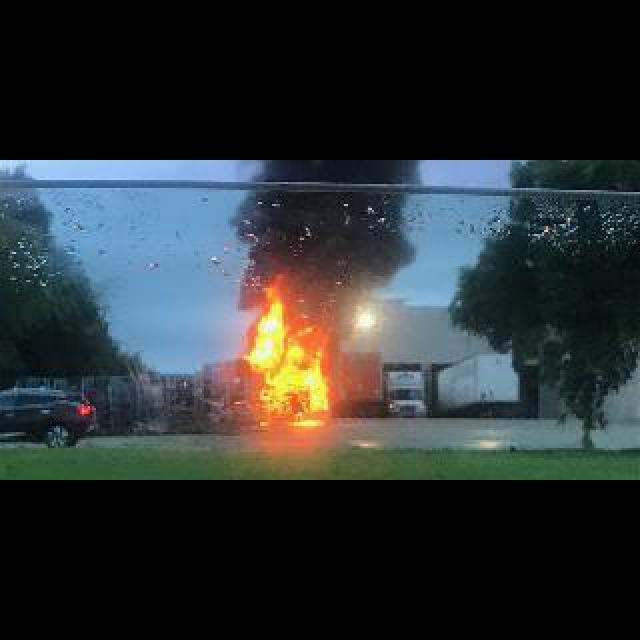fire: (244, 298, 326, 424)
smoke: (220, 160, 424, 302)
